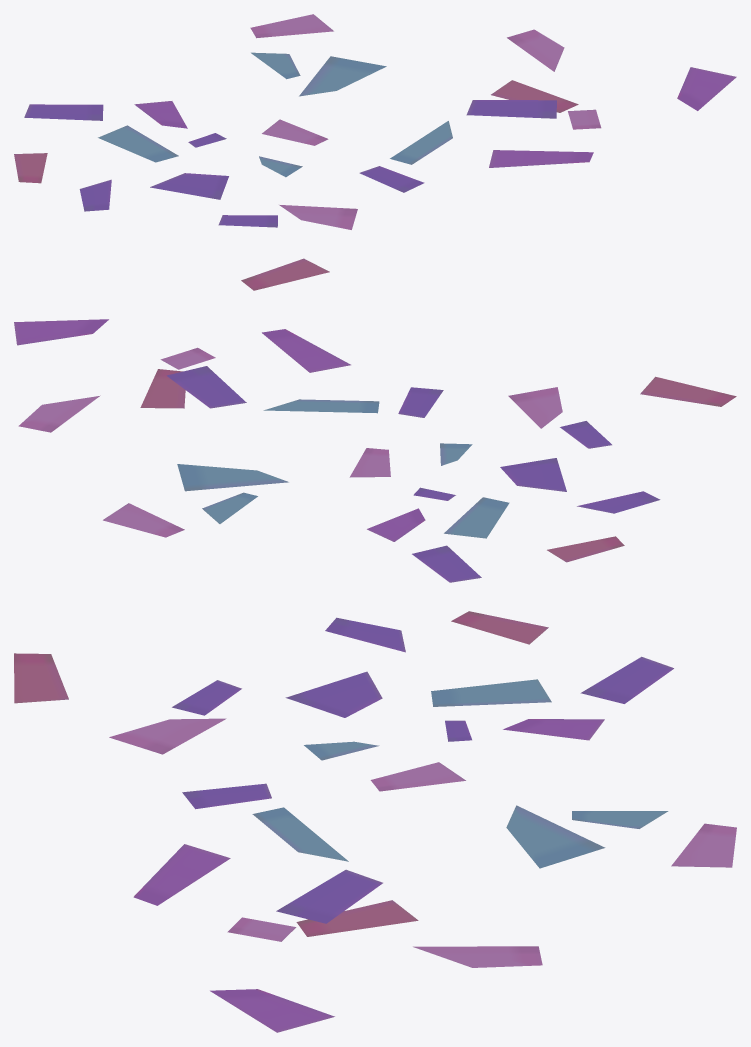
File: pref_sm_city_zhixie01_snow_lv3.fbx
3 views of the same model, one above another, from view 1: azimuth 30°, elevation 25°; view 2: azimuth 150°, elevation 25°; view 3: azimuth 270°, elevation 25° (orthographic). The views are drawn at different scales.
Parts seen in each view (by area): view 1: pref_sm_city_zhixie01_snow_lv3; view 2: pref_sm_city_zhixie01_snow_lv3; view 3: pref_sm_city_zhixie01_snow_lv3.
Boxes of the visible parts, bbox=[...] form: pref_sm_city_zhixie01_snow_lv3: bbox=[14, 14, 736, 290]; pref_sm_city_zhixie01_snow_lv3: bbox=[14, 319, 736, 582]; pref_sm_city_zhixie01_snow_lv3: bbox=[14, 611, 736, 1032].
Size of the model in its own units: 9.58 by 0.0458 by 6.94.
